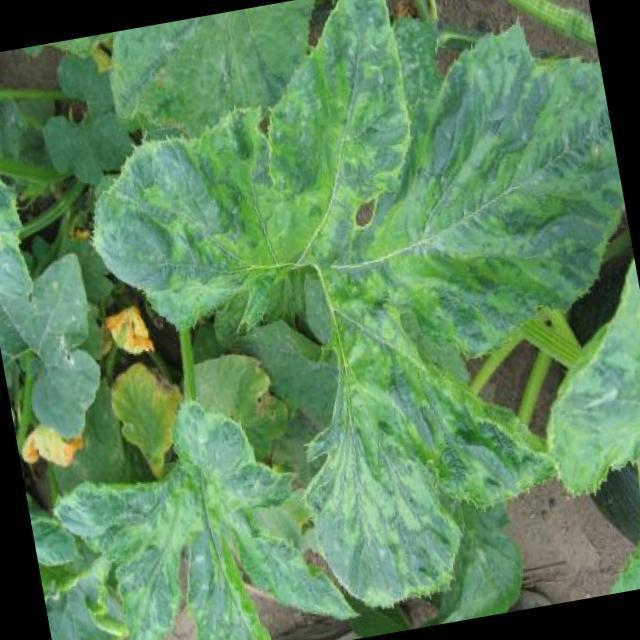Mosaic Virus: (387, 31, 640, 344), (296, 256, 524, 592), (59, 403, 293, 640), (225, 2, 412, 272), (84, 138, 262, 322), (0, 158, 26, 258)
